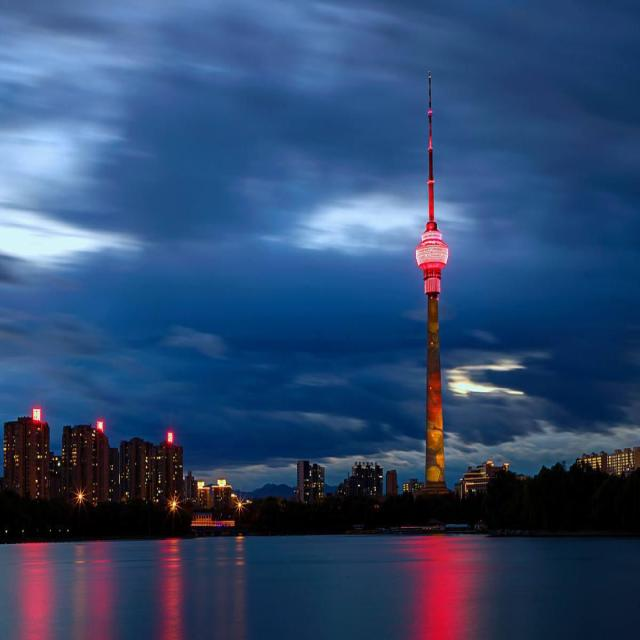other: (413, 518, 474, 628), (417, 171, 450, 285), (14, 542, 56, 628), (158, 539, 187, 638), (85, 536, 116, 623), (26, 381, 42, 421), (165, 491, 188, 517), (163, 422, 179, 448), (73, 487, 89, 506), (92, 416, 106, 431)
